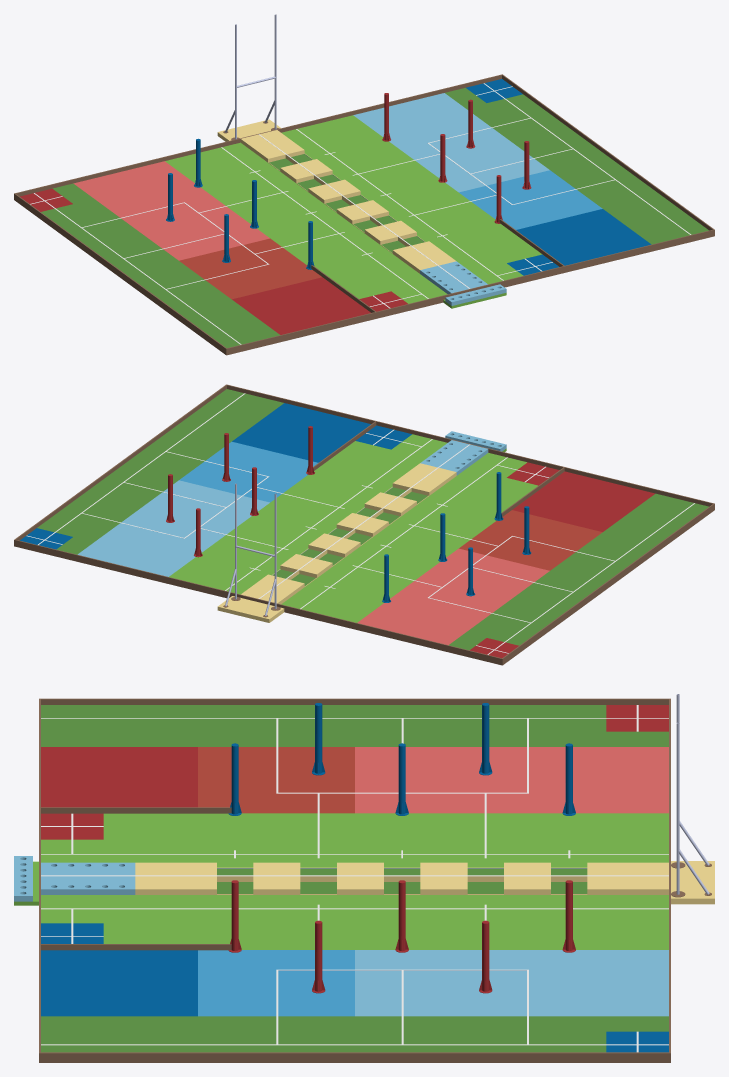
Rendered from step20.dae.
The picture shows the model from 3 angles, top to bottom: view 1: azimuth 30°, elevation 25°; view 2: azimuth 150°, elevation 25°; view 3: azimuth 270°, elevation 25°; orthographic projection. The views are drawn at different scales.
Visible parts, largest first — view 1: Part1 (×17), Part5 (×2), Part4, Part2, Part8_Default_As_Machined_, Part3; view 2: Part1 (×17), Part5 (×2), Part4, Part2, Part8_Default_As_Machined_, Part3; view 3: Part1 (×17), Part4 (×2), Part5 (×2), Part6 (×5), Part7 (×5), Part2, Part9 (×2), Part8_Default_As_Machined_ (×2), Part3.
Boxes of the visible parts, left/top/right/bottom form: Part1 (×17): left=20, top=79, right=708, bottom=347; Part5 (×2): left=14, top=74, right=714, bottom=355; Part4: left=240, top=130, right=456, bottom=273; Part2: left=420, top=261, right=487, bottom=294; Part8_Default_As_Machined_: left=217, top=119, right=280, bottom=141; Part3: left=445, top=284, right=506, bottom=305; Part1 (×17): left=20, top=389, right=708, bottom=658; Part5 (×2): left=14, top=384, right=714, bottom=665; Part4: left=241, top=463, right=456, bottom=604; Part2: left=420, top=440, right=488, bottom=475; Part8_Default_As_Machined_: left=217, top=596, right=284, bottom=622; Part3: left=445, top=431, right=506, bottom=451; Part1 (×17): left=41, top=705, right=668, bottom=1052; Part4 (×2): left=135, top=862, right=668, bottom=894; Part5 (×2): left=39, top=698, right=670, bottom=1062; Part6 (×5): left=228, top=880, right=575, bottom=993; Part7 (×5): left=228, top=703, right=575, bottom=815; Part2: left=41, top=862, right=135, bottom=894; Part9 (×2): left=41, top=807, right=231, bottom=950; Part8_Default_As_Machined_ (×2): left=671, top=723, right=714, bottom=904; Part3: left=14, top=856, right=32, bottom=901.
Bounding box in the file's own units: 526 × 439 × 122.
